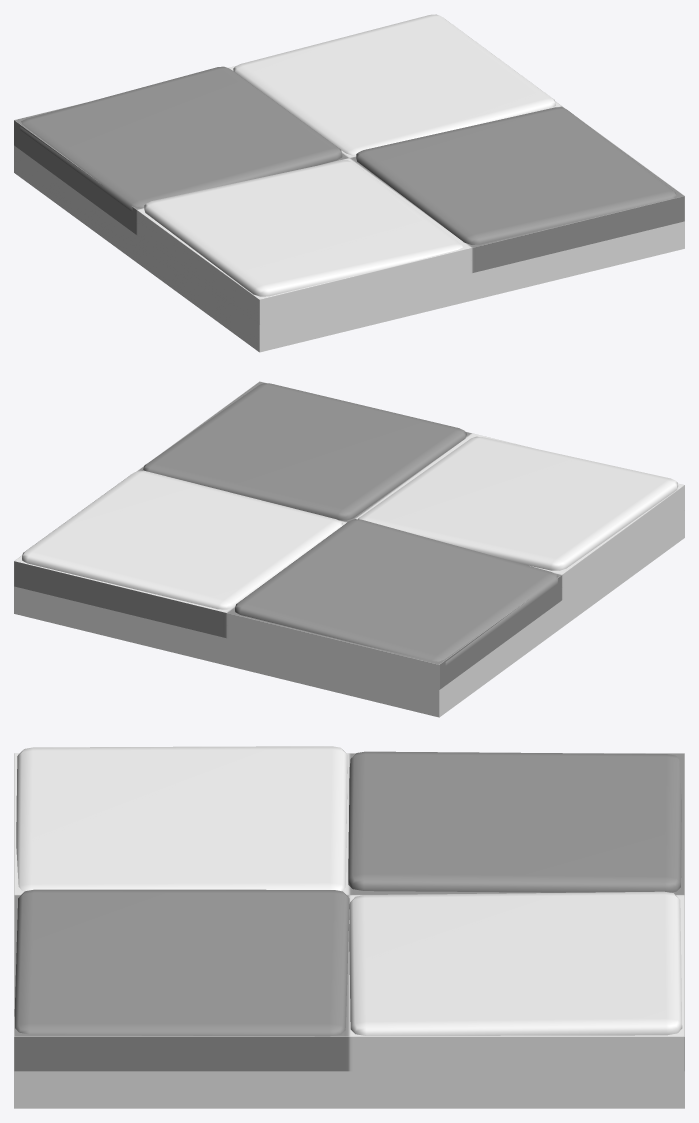
Rendered from Floor Tiled.fbx.
The picture shows the model from 3 angles, top to bottom: view 1: azimuth 30°, elevation 25°; view 2: azimuth 150°, elevation 25°; view 3: azimuth 270°, elevation 25°; orthographic projection. The views are drawn at different scales.
Visible parts, largest first — view 1: Floor_Tiled; view 2: Floor_Tiled; view 3: Floor_Tiled.
Part boxes in pixels (x1,y1,x2,y2): Floor_Tiled: (14, 14, 684, 352); Floor_Tiled: (14, 381, 684, 717); Floor_Tiled: (14, 746, 684, 1108).
Bounding box in the file's own units: 1 × 0.1381 × 1.
